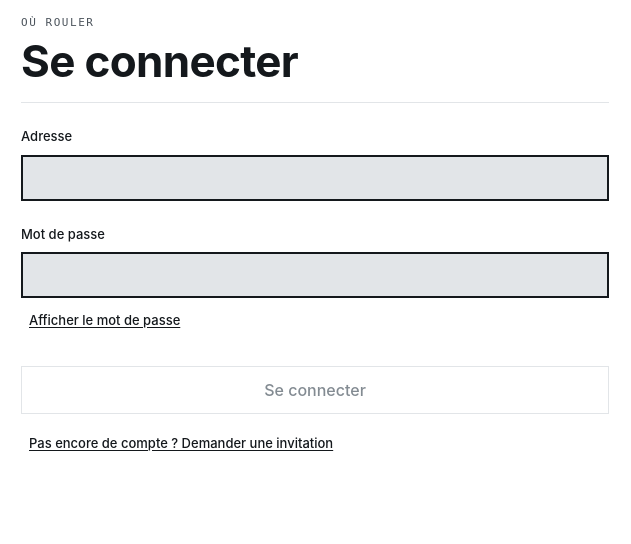
Connexion › un refus (même réponse pour une adresse inconnue et un mauvais secret) s'affiche tel quel
The image size is (631, 544).
In the field labelled "Adresse": point(315, 178) [21, 155, 609, 201], type "cycliste@exemple.invalid"
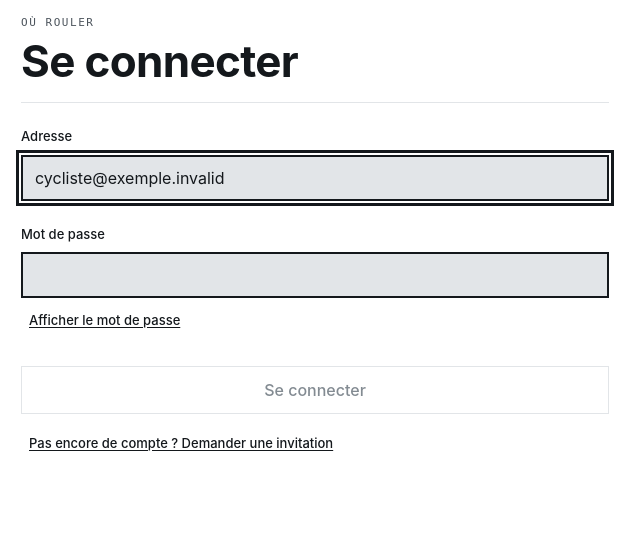
In the password field labelled "Mot de passe": point(315, 275) [21, 252, 609, 298], type "un-mauvais-secret"
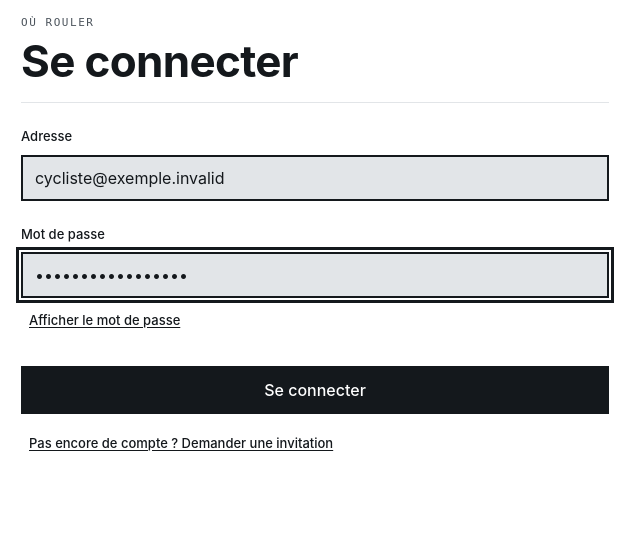
Click the button "Se connecter": point(315, 390) [21, 366, 609, 414]
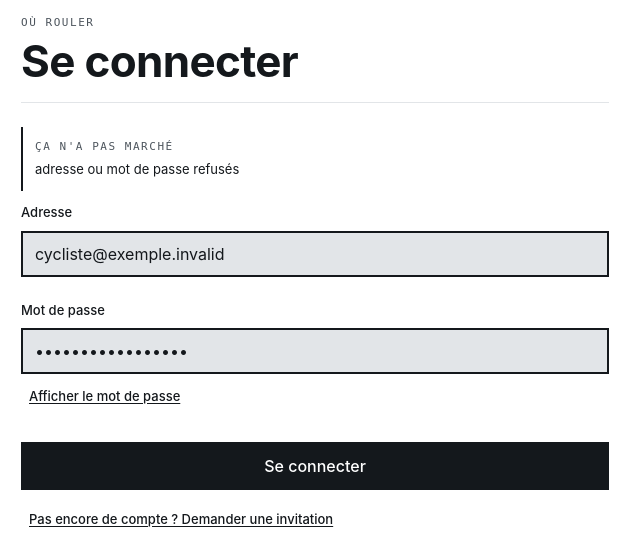
expect the heading "Se connecter" is shown: met, box [21, 36, 298, 86]
expect the text "adresse ou mot de passe refusés" is shown: met, box [21, 127, 609, 191]
